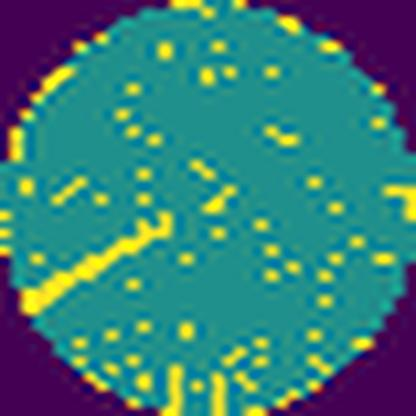Scratch: (13, 209, 176, 318)
